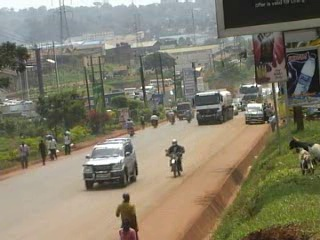Car: (82, 136, 140, 189), (231, 96, 244, 109), (228, 101, 238, 117)
Motorcycle: (162, 139, 187, 177), (123, 116, 136, 140), (165, 108, 177, 125), (182, 107, 194, 122), (148, 112, 159, 128)
